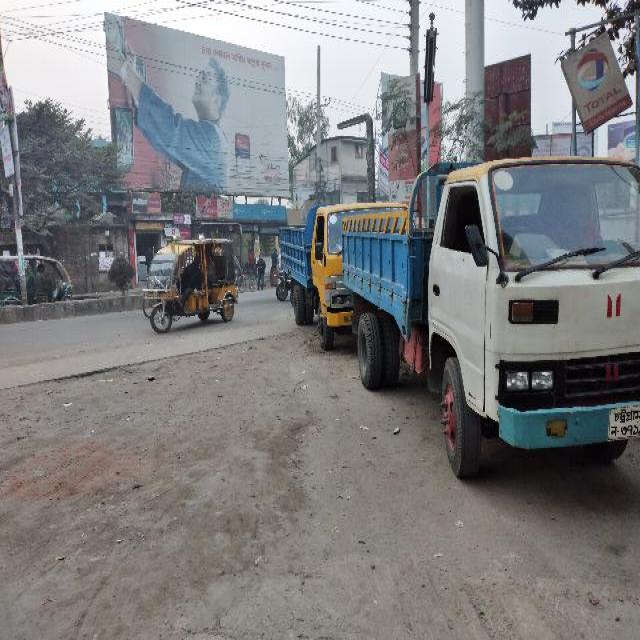vehicle: (339, 164, 640, 486), (275, 202, 406, 355), (141, 236, 239, 331), (4, 250, 75, 304)
